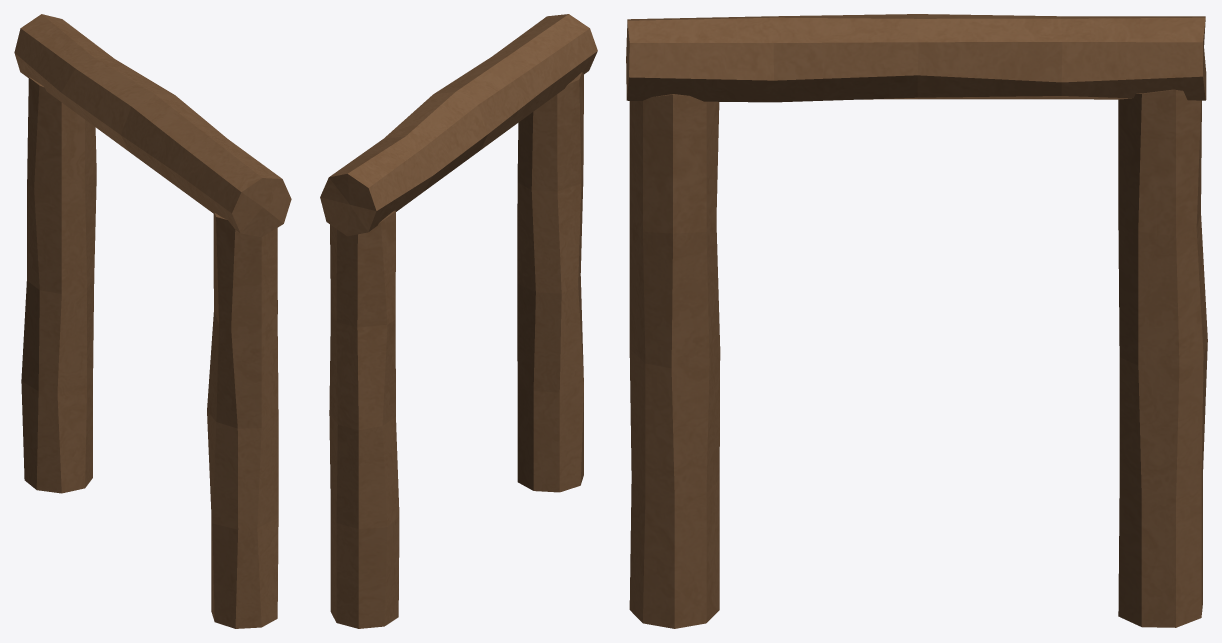
File: Doorway.fbx
3 renders of one model, left to right at view 1: azimuth 30°, elevation 25°; view 2: azimuth 150°, elevation 25°; view 3: azimuth 270°, elevation 25°, orthographic. The views are drawn at different scales.
Parts seen in each view (by area): view 1: pCylinder4; view 2: pCylinder4; view 3: pCylinder4.
Boxes of the visible parts, x1,y1,x2,y2 form: pCylinder4: [14, 14, 291, 628]; pCylinder4: [320, 14, 597, 628]; pCylinder4: [626, 14, 1207, 628].
Bounding box in the file's own units: 55.3 × 363 × 323.
1 material, 1 textured.
